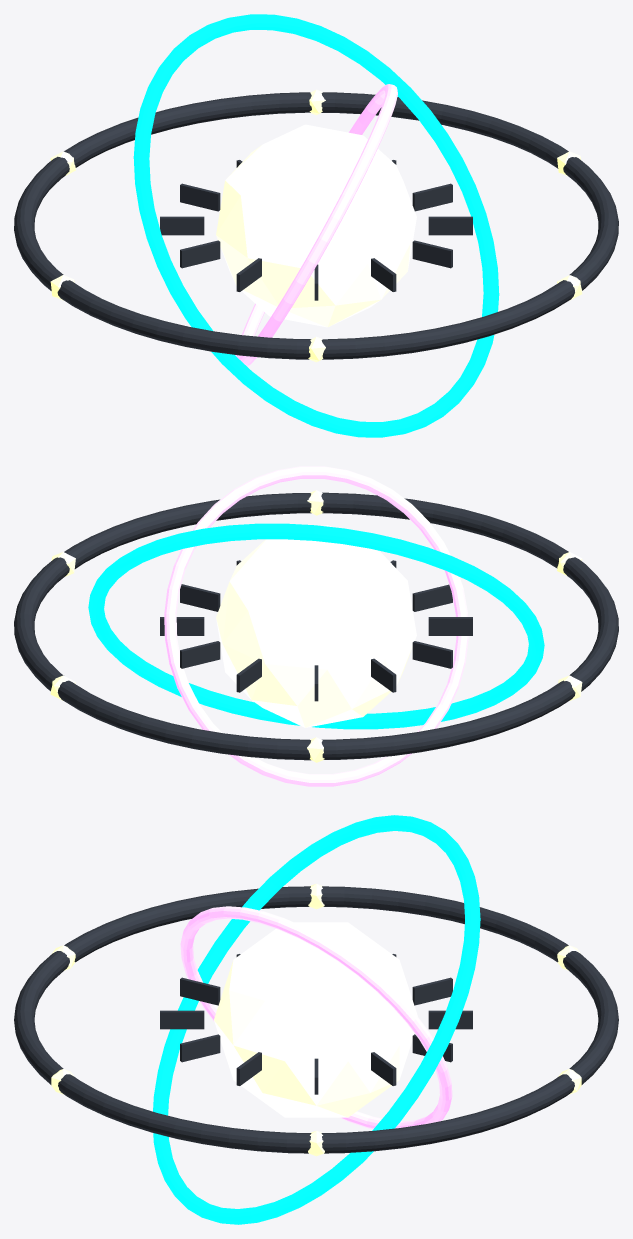
The model's file is multihopper_reactor.glb.
The picture shows the model from 3 angles, top to bottom: view 1: azimuth 30°, elevation 25°; view 2: azimuth 150°, elevation 25°; view 3: azimuth 270°, elevation 25°; orthographic projection.
Parts seen in each view (by area): view 1: Reactor_Core_Crystal, Orbital_Ring_Outer, Orbital_Ring_Mid, Orbital_Ring_Inner, Radiator_Fin_11, Radiator_Fin_5, Radiator_Fin_4, Radiator_Fin_6, Radiator_Fin_10, Radiator_Fin_0; view 2: Reactor_Core_Crystal, Orbital_Ring_Outer, Orbital_Ring_Mid, Orbital_Ring_Inner, Radiator_Fin_7, Radiator_Fin_2, Radiator_Fin_6, Radiator_Fin_0, Radiator_Fin_8, Radiator_Fin_1, Radiator_Fin_3, Radiator_Fin_5; view 3: Reactor_Core_Crystal, Orbital_Ring_Outer, Orbital_Ring_Mid, Orbital_Ring_Inner, Radiator_Fin_9, Radiator_Fin_10, Radiator_Fin_8, Radiator_Fin_4, Radiator_Fin_3.
Part boxes in pixels (box(x1,y1,x2,y2)): Reactor_Core_Crystal: box(216, 124, 416, 327); Orbital_Ring_Outer: box(14, 92, 618, 359); Orbital_Ring_Mid: box(133, 14, 499, 437); Orbital_Ring_Inner: box(235, 84, 397, 366); Radiator_Fin_11: box(428, 216, 472, 235); Radiator_Fin_5: box(160, 216, 204, 235); Radiator_Fin_4: box(180, 183, 220, 211); Radiator_Fin_6: box(180, 240, 220, 268); Radiator_Fin_10: box(412, 240, 452, 268); Radiator_Fin_0: box(412, 183, 452, 211); Reactor_Core_Crystal: box(216, 525, 416, 727); Orbital_Ring_Outer: box(14, 492, 618, 760); Orbital_Ring_Mid: box(88, 523, 544, 729); Orbital_Ring_Inner: box(164, 466, 468, 786); Radiator_Fin_7: box(428, 617, 472, 635); Radiator_Fin_2: box(180, 641, 220, 668); Radiator_Fin_6: box(412, 641, 452, 668); Radiator_Fin_0: box(180, 584, 220, 611); Radiator_Fin_8: box(412, 584, 452, 611); Radiator_Fin_1: box(160, 617, 204, 635); Radiator_Fin_3: box(236, 658, 261, 692); Radiator_Fin_5: box(371, 658, 396, 692); Reactor_Core_Crystal: box(214, 922, 417, 1117); Orbital_Ring_Outer: box(14, 886, 618, 1153); Orbital_Ring_Mid: box(153, 815, 480, 1224); Orbital_Ring_Inner: box(180, 906, 452, 1129); Radiator_Fin_9: box(160, 1010, 204, 1029); Radiator_Fin_10: box(180, 1034, 220, 1062); Radiator_Fin_8: box(180, 977, 220, 1005); Radiator_Fin_4: box(412, 977, 452, 1005); Radiator_Fin_3: box(428, 1010, 472, 1029).
Bounding box in the file's own units: 3.86 × 2.24 × 3.83.
